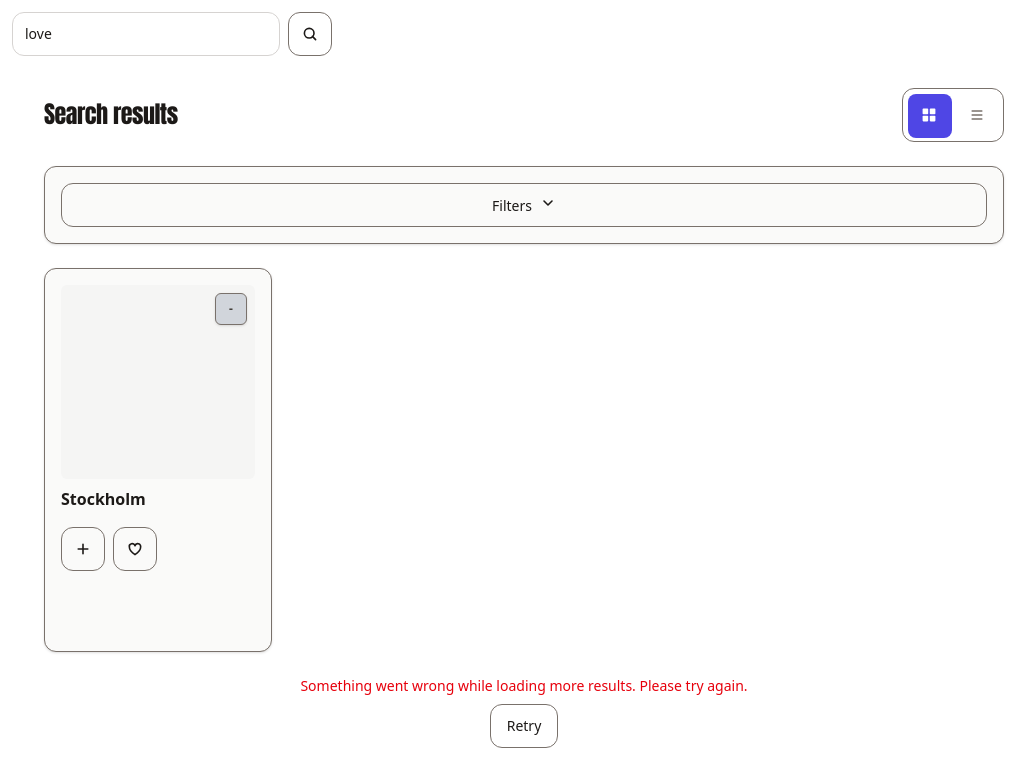
it: Search results flow (US2) › shows a retry option on a failed next-batch fetch without discarding already-loaded results (FR-010)
expect the text "Stockholm" is shown: met, box [61,488,146,510]
Click the button "Retry" at (524, 726), box [490,704,558,748]
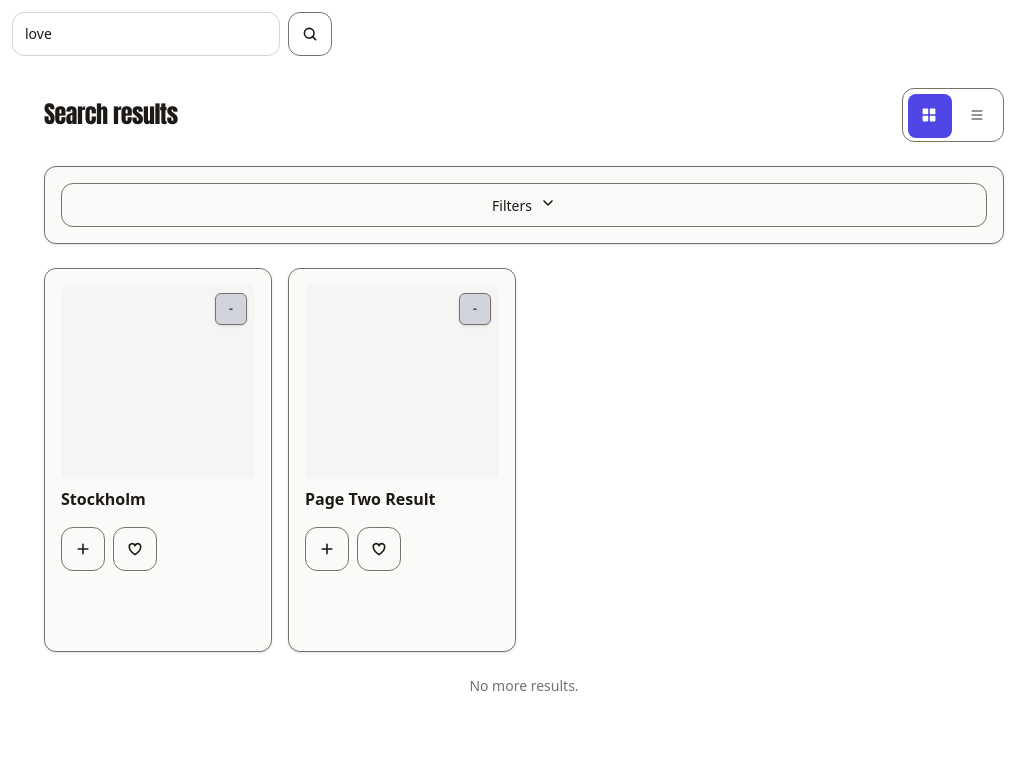
expect the text "Page Two Result" is shown: met, box [305,488,436,510]
